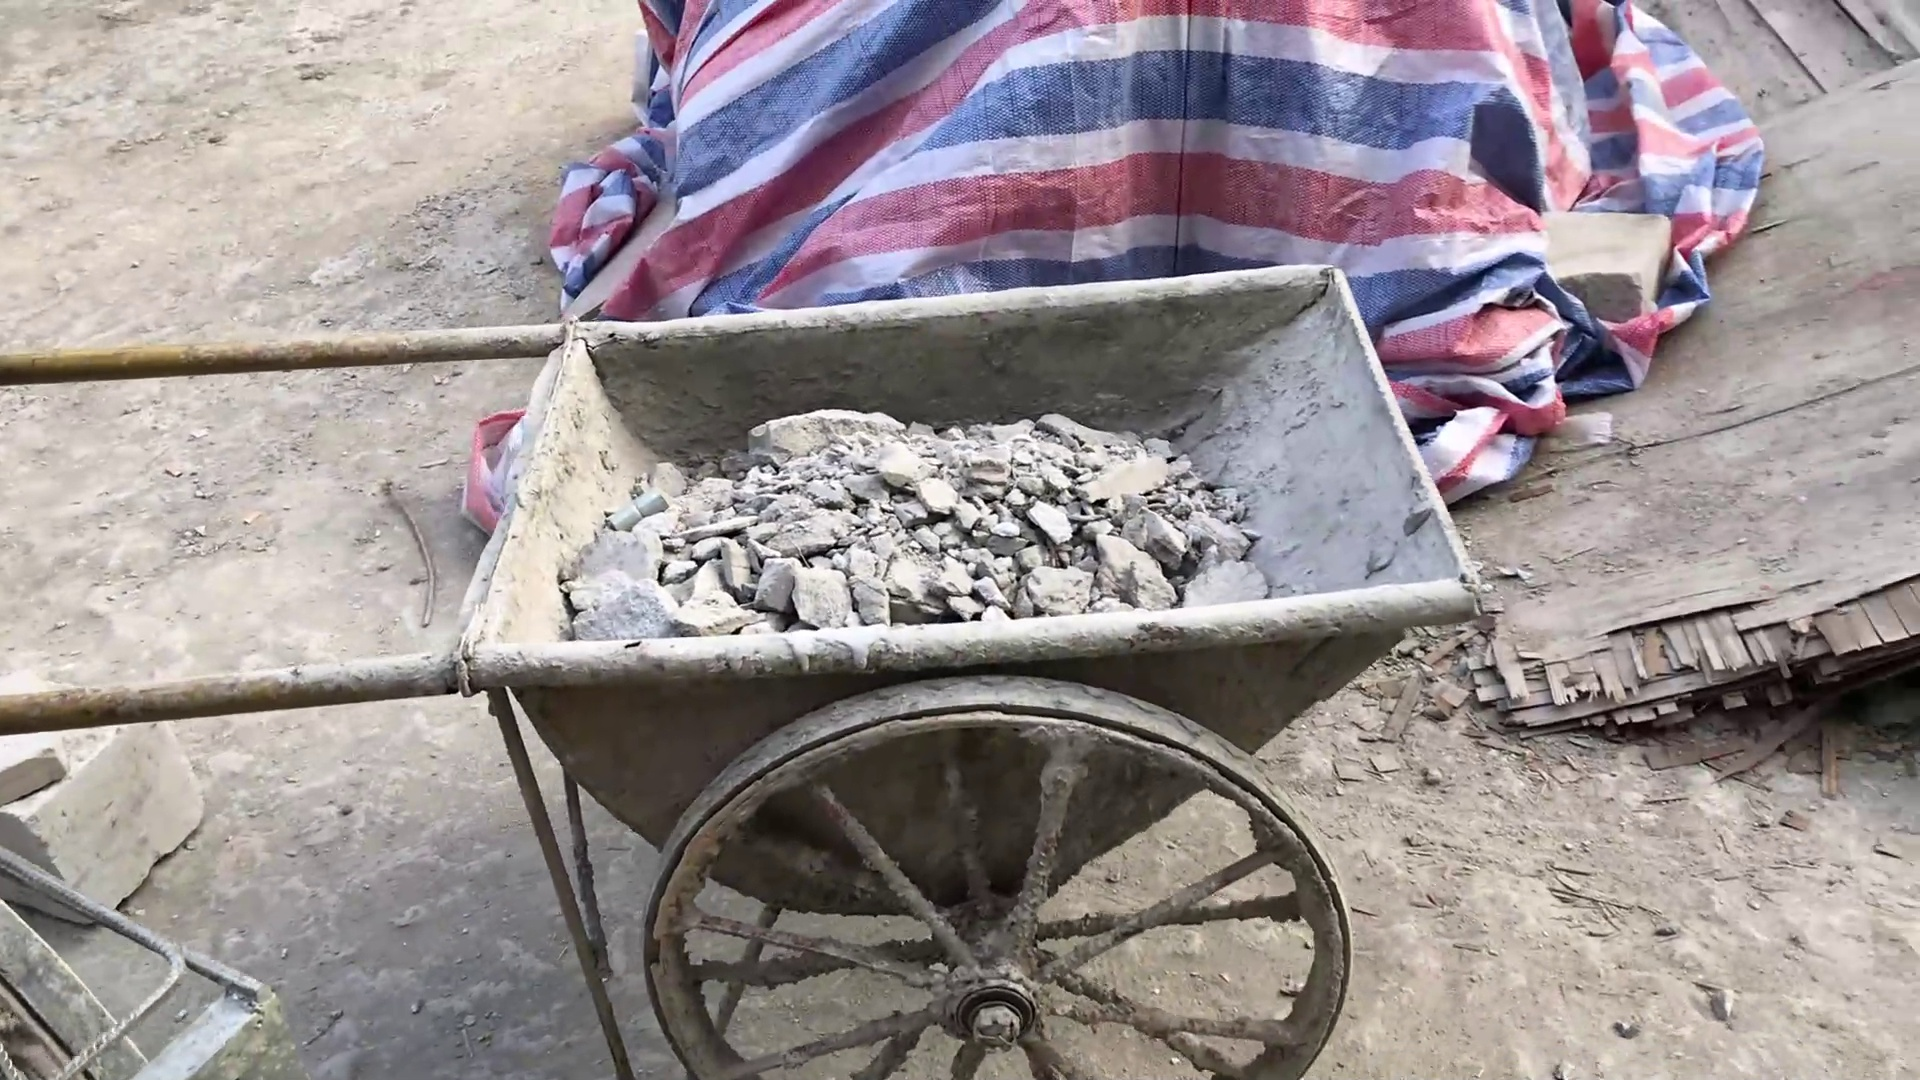handcart: (25, 247, 1577, 1077)
